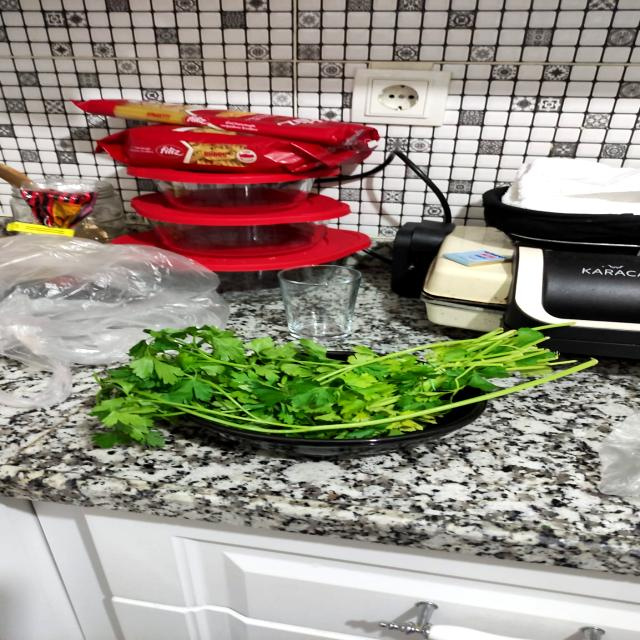parsley: (81, 315, 605, 454)
